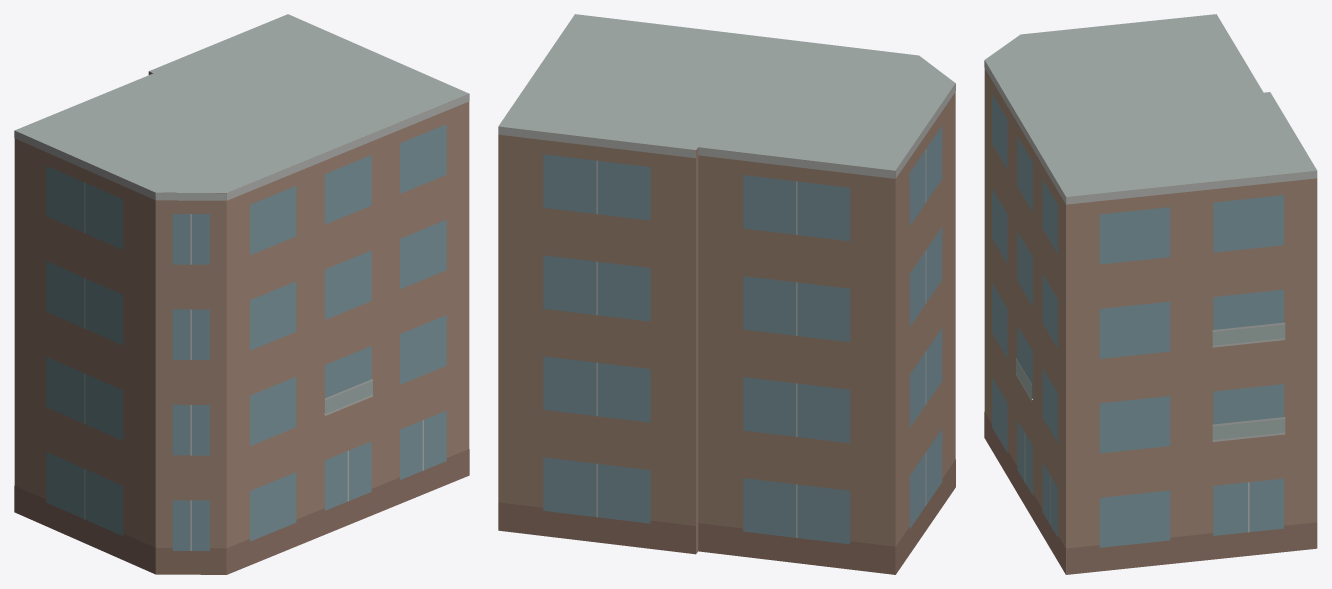
The model's file is survey-upis-32705076.glb.
3 renders of one model, left to right at view 1: azimuth 30°, elevation 25°; view 2: azimuth 150°, elevation 25°; view 3: azimuth 270°, elevation 25°, orthographic. The views are drawn at different scales.
Parts seen in each view (by area): view 1: survey-upis-32705076.tmp; view 2: survey-upis-32705076.tmp; view 3: survey-upis-32705076.tmp.
Boxes of the visible parts, x1,y1,x2,y2 form: survey-upis-32705076.tmp: (14, 14, 469, 574); survey-upis-32705076.tmp: (498, 14, 955, 574); survey-upis-32705076.tmp: (984, 14, 1317, 574).
Size of the model in its own units: 12.58 by 12.1 by 9.67.
